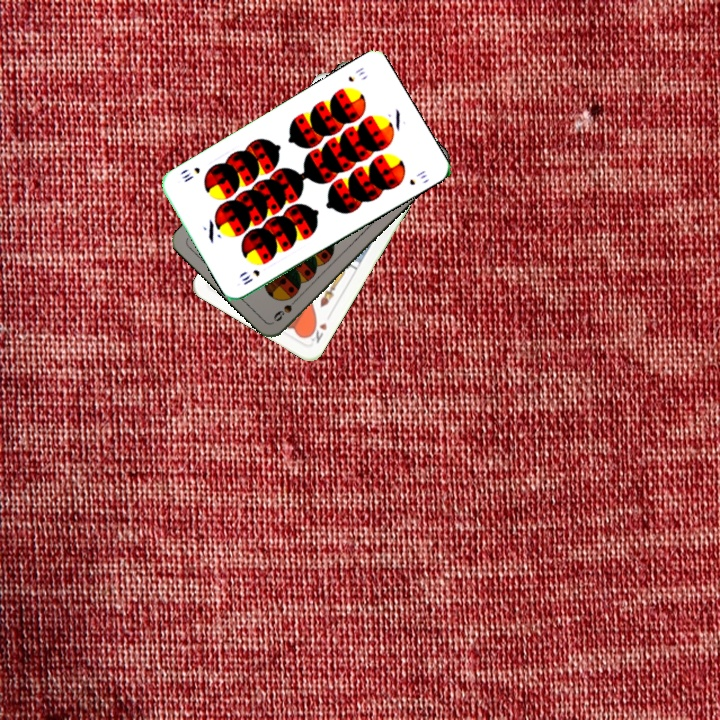HK: (304, 318, 330, 346)
S10: (238, 265, 262, 288), (344, 63, 368, 85)
S9: (269, 292, 302, 324)
